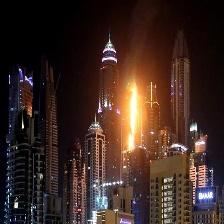fire: (127, 81, 140, 154)
